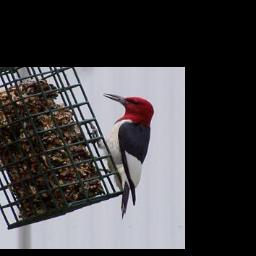Woodpecker: (89, 92, 155, 219)
